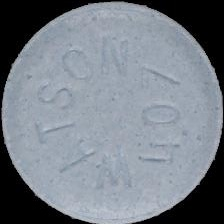0591-0407: (0, 0, 224, 224)
